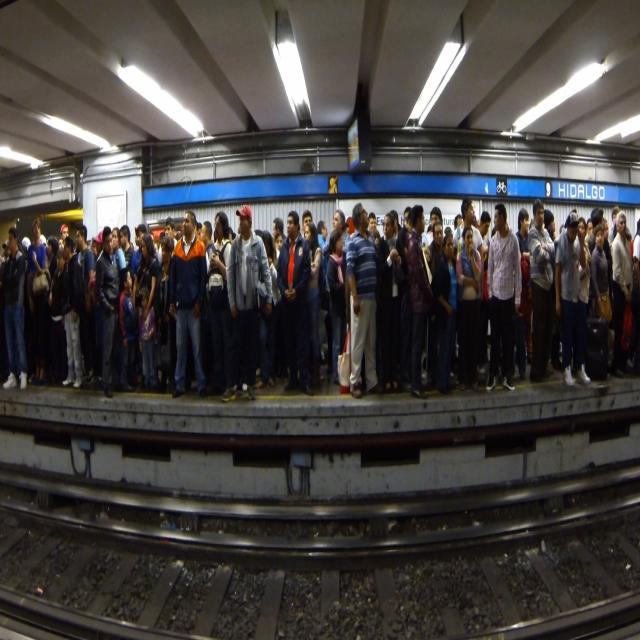body: (224, 202, 274, 402), (345, 202, 385, 400), (275, 208, 316, 399), (168, 209, 208, 400), (485, 202, 522, 391), (554, 211, 591, 387), (375, 211, 409, 396), (404, 203, 435, 401), (431, 231, 465, 398), (345, 208, 375, 396), (207, 211, 237, 398), (527, 198, 555, 384), (454, 225, 483, 394), (95, 224, 123, 398), (252, 231, 282, 392), (1, 225, 28, 391), (58, 234, 85, 390), (26, 216, 50, 388), (304, 220, 328, 390), (610, 210, 634, 379), (154, 235, 178, 395), (452, 196, 484, 309), (326, 228, 348, 388), (25, 217, 46, 384), (75, 223, 96, 384), (395, 211, 413, 390), (514, 208, 534, 366), (426, 220, 444, 387), (575, 216, 593, 374), (48, 249, 69, 384), (132, 231, 160, 322), (477, 210, 492, 370), (590, 223, 613, 326), (118, 267, 136, 393), (89, 231, 103, 385), (515, 240, 530, 382), (138, 287, 158, 393), (0, 234, 14, 384), (252, 213, 287, 261), (630, 215, 640, 382), (200, 220, 218, 306), (322, 208, 352, 256), (443, 209, 482, 239), (602, 207, 631, 245), (130, 223, 148, 280), (157, 216, 178, 264), (608, 205, 632, 243), (424, 206, 446, 247), (119, 224, 137, 273), (588, 206, 604, 256), (146, 228, 166, 268), (316, 219, 330, 274), (46, 235, 60, 285), (366, 210, 382, 253), (213, 220, 238, 247), (37, 232, 53, 274), (297, 147, 320, 175), (109, 226, 124, 266), (490, 218, 510, 248), (584, 216, 596, 263), (57, 234, 80, 258), (543, 207, 558, 243), (85, 233, 100, 268), (389, 208, 404, 241), (17, 233, 32, 264), (301, 209, 313, 239), (191, 218, 204, 244), (130, 225, 140, 253), (296, 219, 305, 244), (59, 222, 69, 242), (341, 222, 351, 242), (175, 228, 183, 245), (426, 220, 433, 235)
